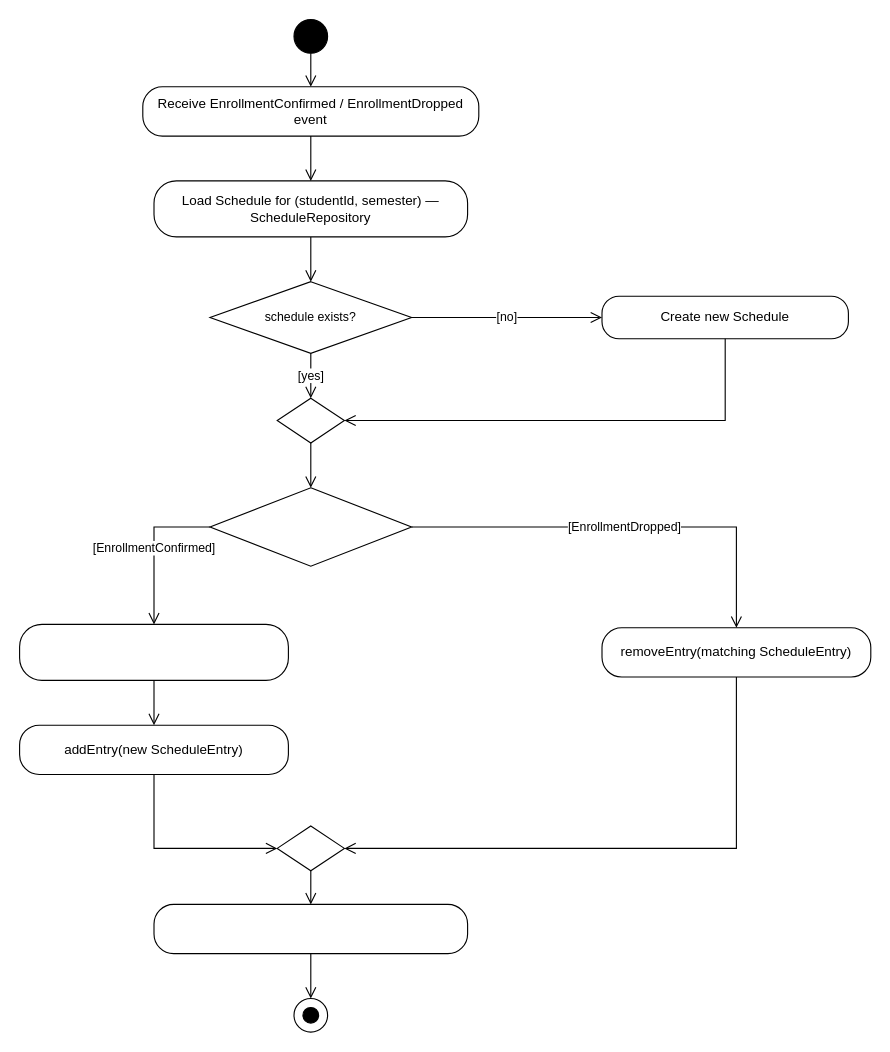
The diagram is 890 pixels wide and 1052 high, and some of its shapes have lost their labels. Each missing label, with the box of its shape:
event type?: (209, 487, 412, 566)
Query offering timetable from Course Service API: (18, 623, 288, 680)
Save schedule (ScheduleRepository): (153, 903, 468, 954)
